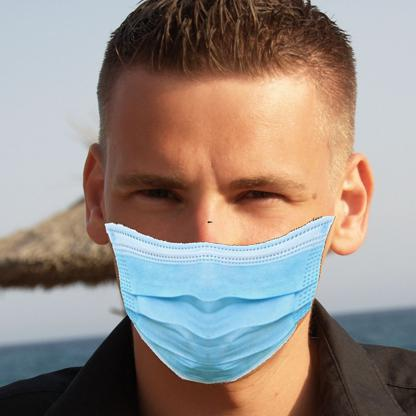mask: (102, 221, 327, 383)
